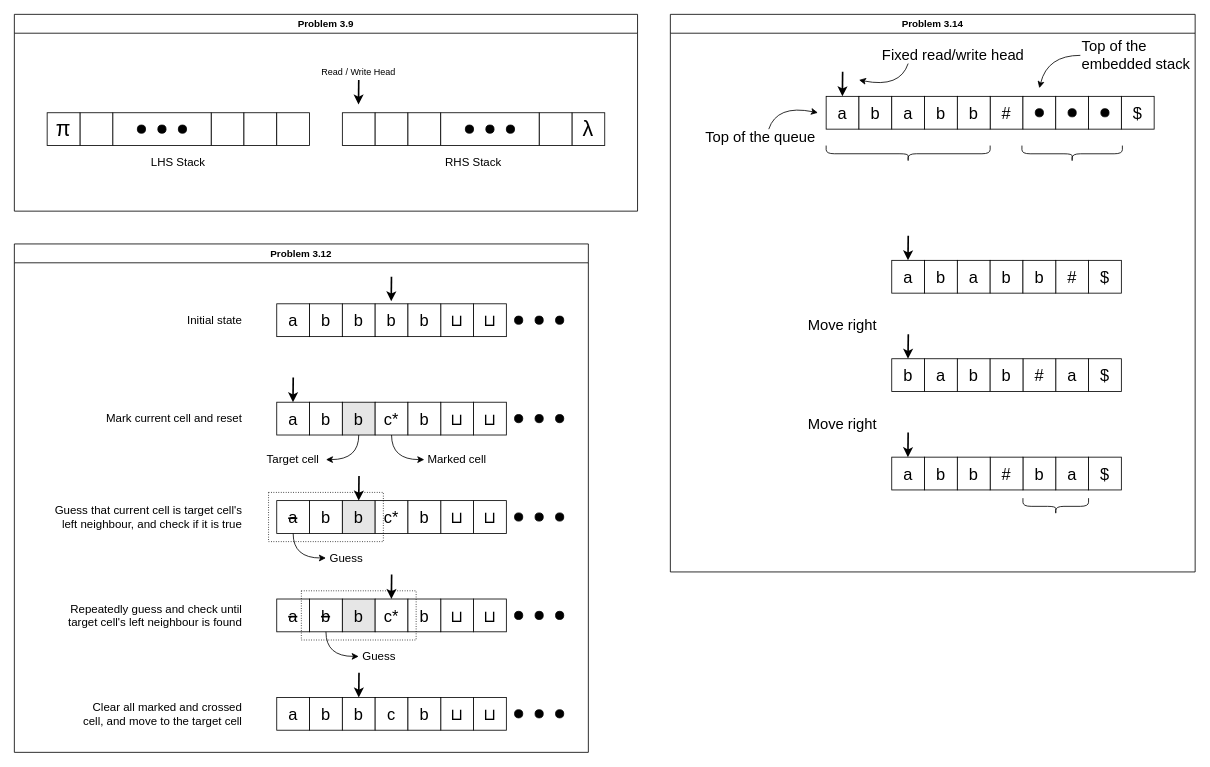
Image size: 1210x767. Some labels were removed from this diagram. Each missing label, with the centre of its shape:
"Embedded stack" belongs at point 1055,506.
"Input string" belongs at point 907,153.
"Stack of symbols that appear on the left of the head" belongs at point 1071,153.
